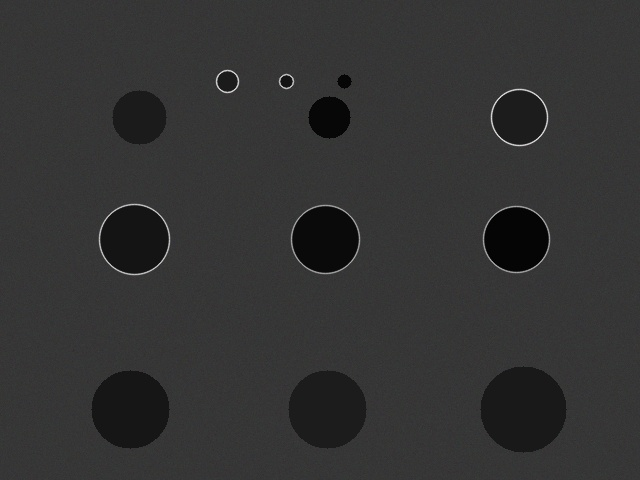hole: (480, 366, 566, 452), (91, 370, 169, 448), (288, 370, 366, 448), (99, 204, 169, 274), (291, 205, 359, 273), (483, 206, 549, 272), (491, 89, 547, 145), (112, 90, 166, 144), (308, 96, 350, 138), (216, 70, 238, 92), (279, 74, 293, 88), (337, 74, 351, 88)
